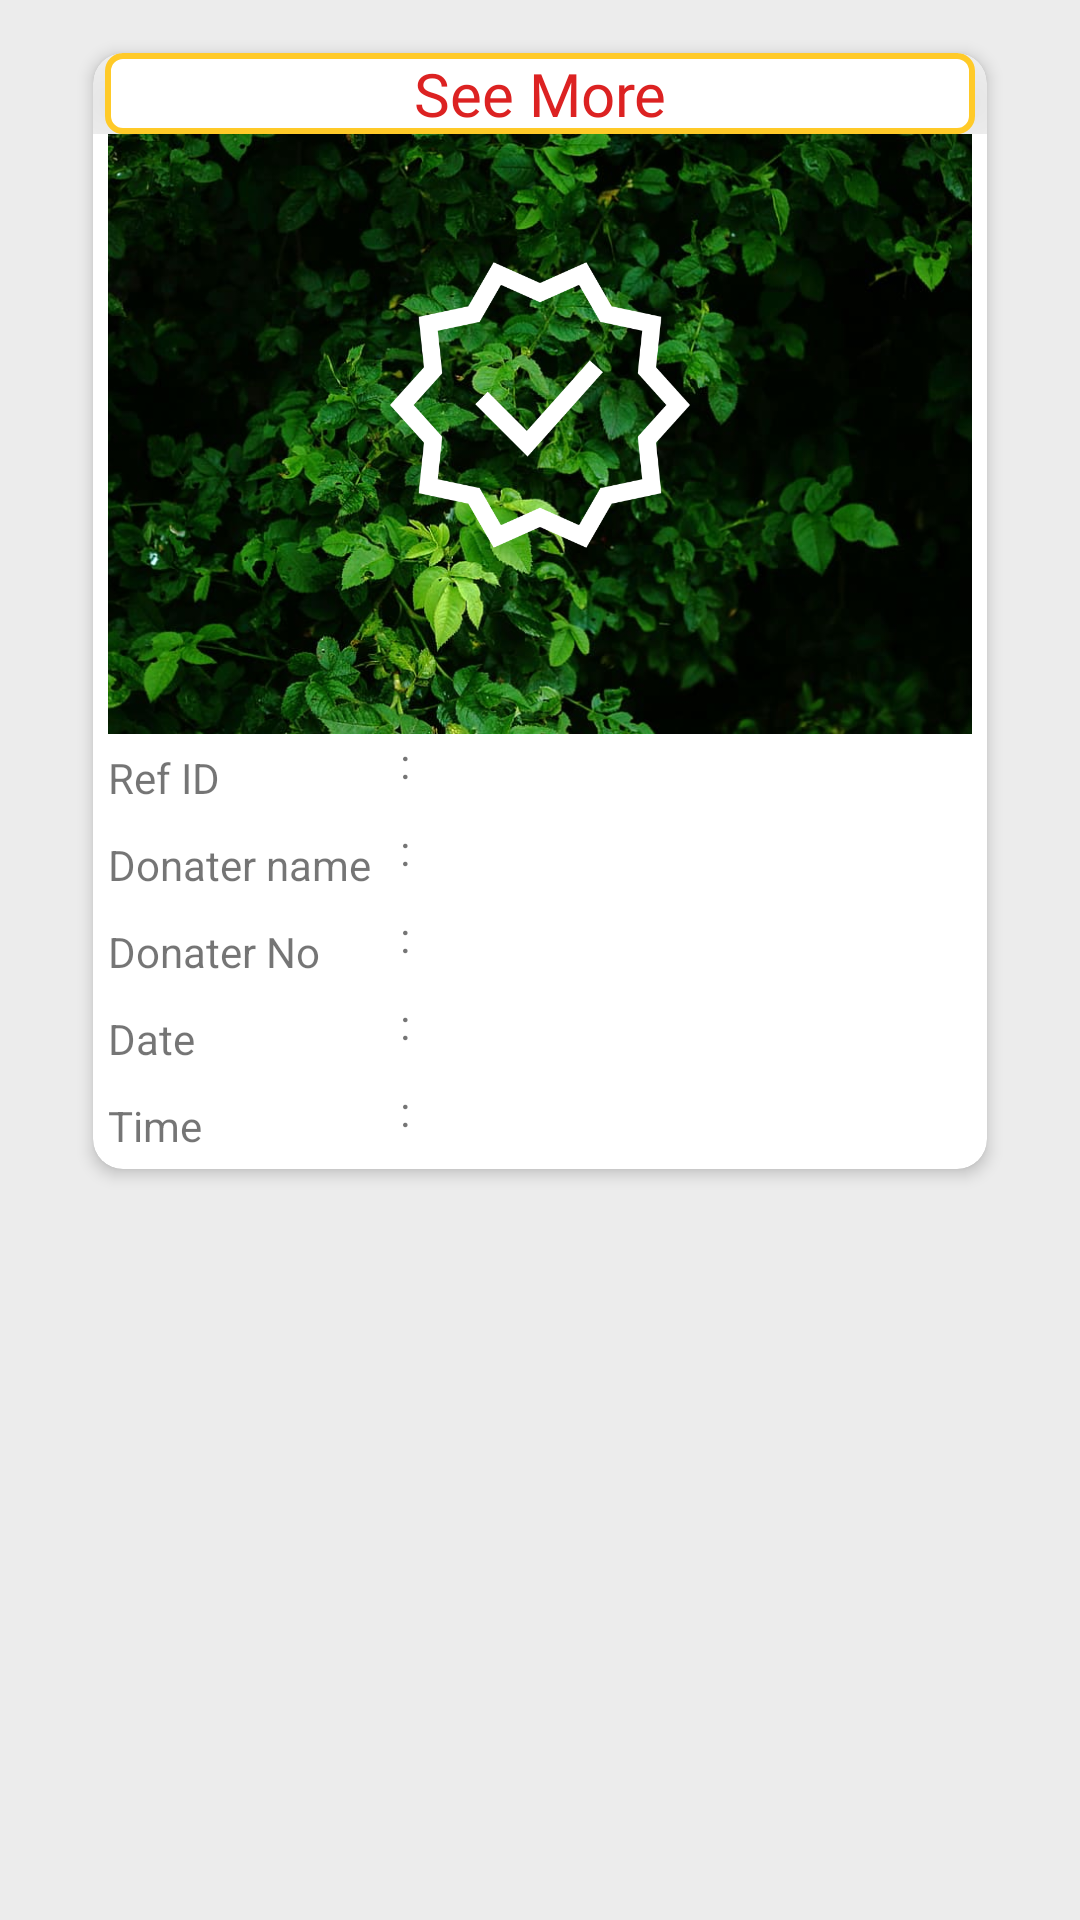

Screen size 1080x1920. Icon name, then its center in pixels as [x,y]:
dones: [540,405]
